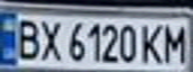0: (118, 20, 139, 64)
1: (84, 20, 103, 63)
2: (100, 20, 121, 63)
6: (63, 18, 87, 62)
B: (9, 16, 42, 61)
K: (139, 20, 166, 64)
M: (160, 20, 193, 64)
X: (36, 16, 63, 62)
